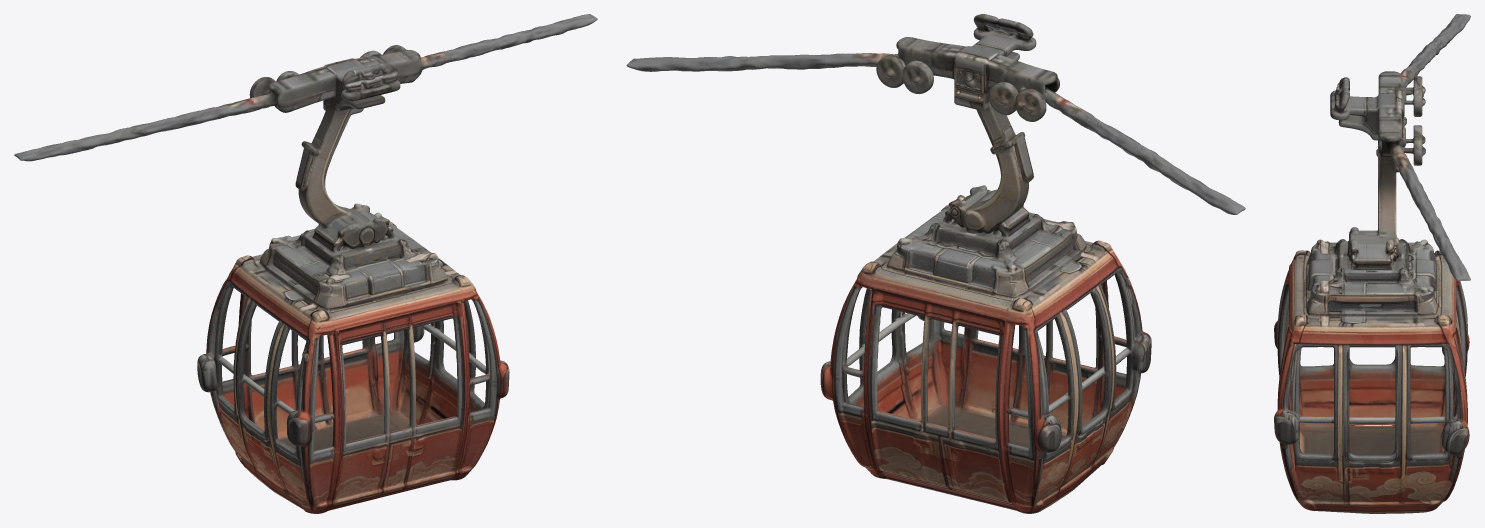
The model's file is cable-car-optimized.glb.
The picture shows the model from 3 angles, left to right: view 1: azimuth 30°, elevation 25°; view 2: azimuth 150°, elevation 25°; view 3: azimuth 270°, elevation 25°; orthographic projection. The views are drawn at different scales.
Visible parts, largest first — view 1: tripo_node_1e4098a1-4ec9-4b5f-b6f4-77ef8450d94f; view 2: tripo_node_1e4098a1-4ec9-4b5f-b6f4-77ef8450d94f; view 3: tripo_node_1e4098a1-4ec9-4b5f-b6f4-77ef8450d94f.
Part boxes in pixels (<box>): tripo_node_1e4098a1-4ec9-4b5f-b6f4-77ef8450d94f: <box>14,14,597,513</box>; tripo_node_1e4098a1-4ec9-4b5f-b6f4-77ef8450d94f: <box>626,14,1245,513</box>; tripo_node_1e4098a1-4ec9-4b5f-b6f4-77ef8450d94f: <box>1274,14,1470,513</box>.
Bounding box in the file's own units: 1 × 0.6893 × 0.3135.
Materials: 1 (1 with a texture image).
